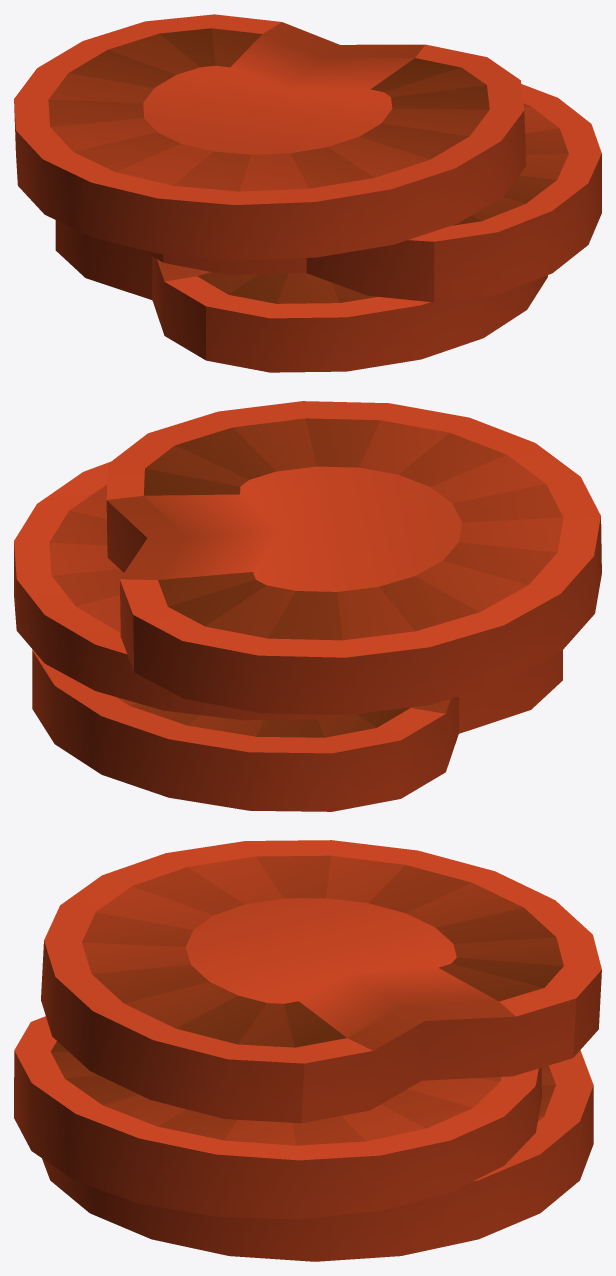
File: 3D_Slicer_Items_Tomato-slice.fbx
3 renders of one model, top to bottom at view 1: azimuth 30°, elevation 25°; view 2: azimuth 150°, elevation 25°; view 3: azimuth 270°, elevation 25°, orthographic. The views are drawn at different scales.
Visible parts, largest first — view 1: 3D_Slicer_Items_Tomato-slice; view 2: 3D_Slicer_Items_Tomato-slice; view 3: 3D_Slicer_Items_Tomato-slice.
Part boxes in pixels (left/top/right/bottom): 3D_Slicer_Items_Tomato-slice: left=14, top=14, right=601, bottom=372; 3D_Slicer_Items_Tomato-slice: left=14, top=401, right=601, bottom=811; 3D_Slicer_Items_Tomato-slice: left=14, top=840, right=601, bottom=1261.
Bounding box in the file's own units: 52.79 × 17.58 × 49.31.
